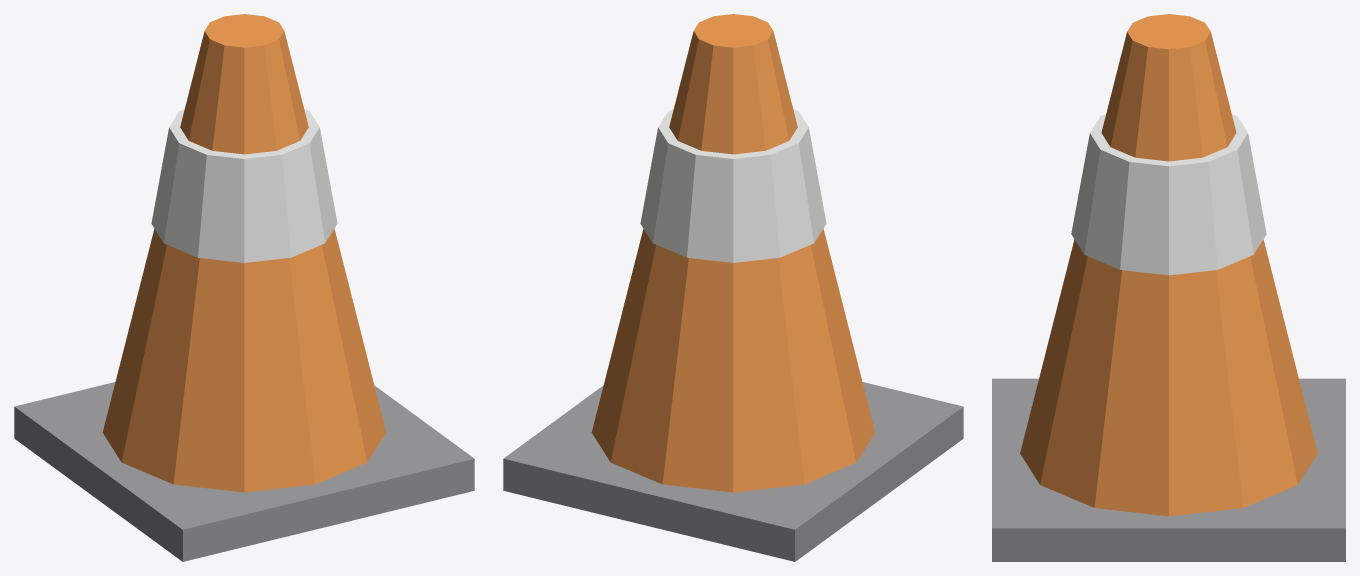
Rendered from bt-traffic-cone.glb.
The picture shows the model from 3 angles, left to right: view 1: azimuth 30°, elevation 25°; view 2: azimuth 150°, elevation 25°; view 3: azimuth 270°, elevation 25°; orthographic projection. The views are drawn at different scales.
Visible parts, largest first — view 1: cone, skirt_base, band; view 2: cone, skirt_base, band; view 3: cone, skirt_base, band.
Boxes of the visible parts, x1,y1,x2,y2 form: cone: (102, 14, 386, 492); skirt_base: (14, 382, 474, 561); band: (151, 109, 337, 262); cone: (591, 14, 875, 492); skirt_base: (503, 382, 963, 561); band: (640, 109, 826, 262); cone: (1020, 14, 1317, 516); skirt_base: (992, 378, 1345, 561); band: (1071, 114, 1266, 275).
Bounding box in the file's own units: 0.38 × 0.54 × 0.38.
